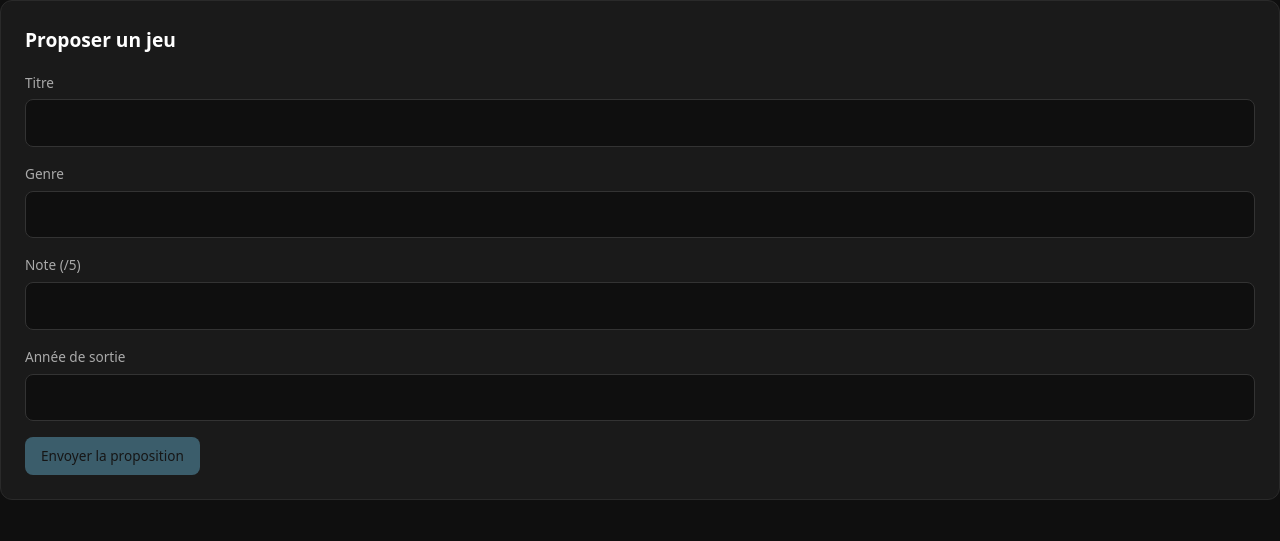
Test: ProposerJeu › bloque la soumission et affiche les erreurs tant que le formulaire est invalide
Expected: the button "Envoyer la proposition" is disabled, [25,437,200,475]
Click the field labelled "Titre": (640, 123) [25,100,1255,147]
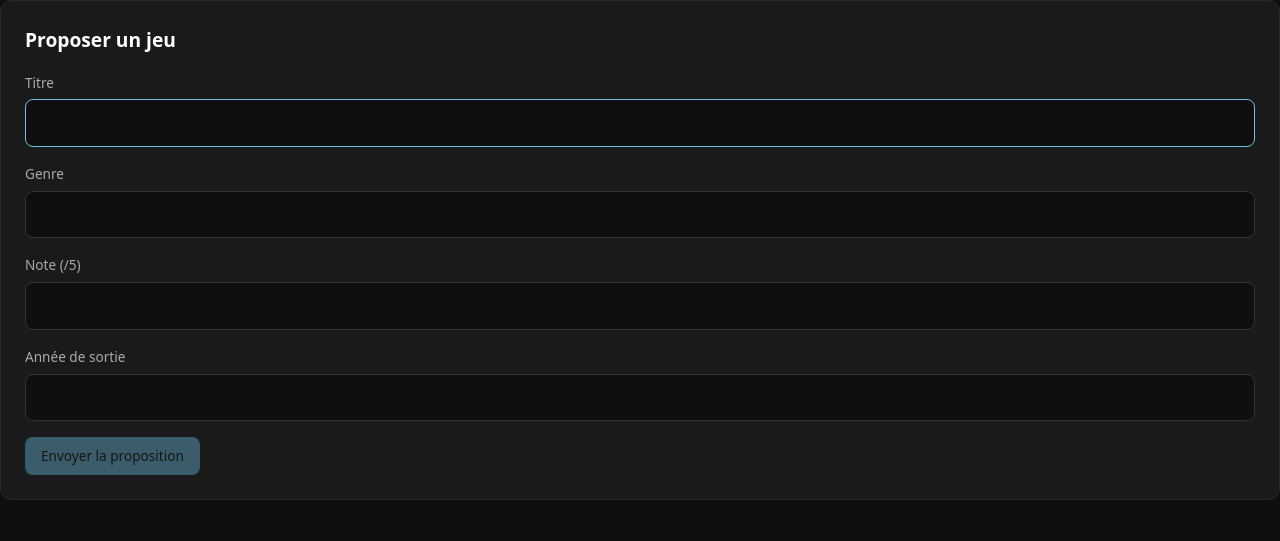
Press Tab
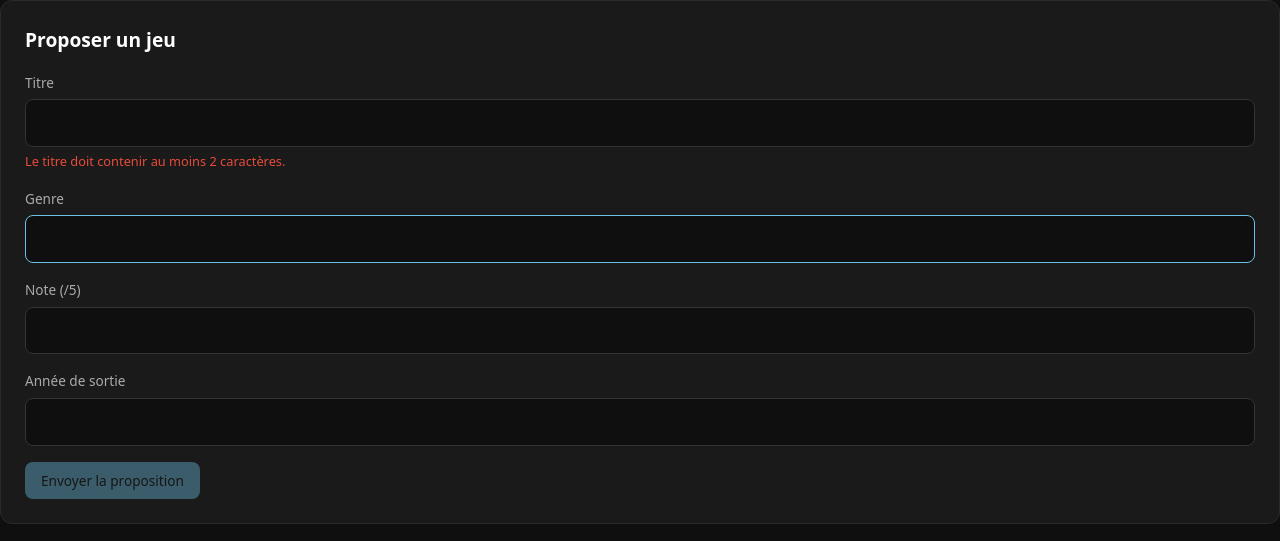
Expected: the button "Envoyer la proposition" is disabled, [25,462,200,499]
Now the text "Le titre doit contenir au moins 2 caractères." is shown, box [25,152,285,170]
